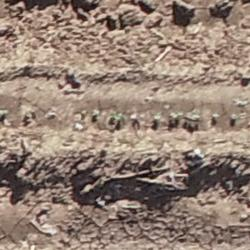cotton: (231, 114, 237, 120), (111, 113, 116, 119), (213, 113, 220, 117), (194, 116, 201, 120), (156, 113, 161, 118), (25, 112, 29, 117), (95, 110, 100, 114), (175, 114, 180, 118), (117, 116, 122, 120)
